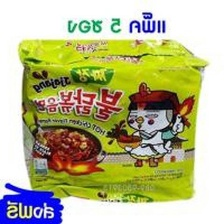snack: (12, 29, 216, 210)
